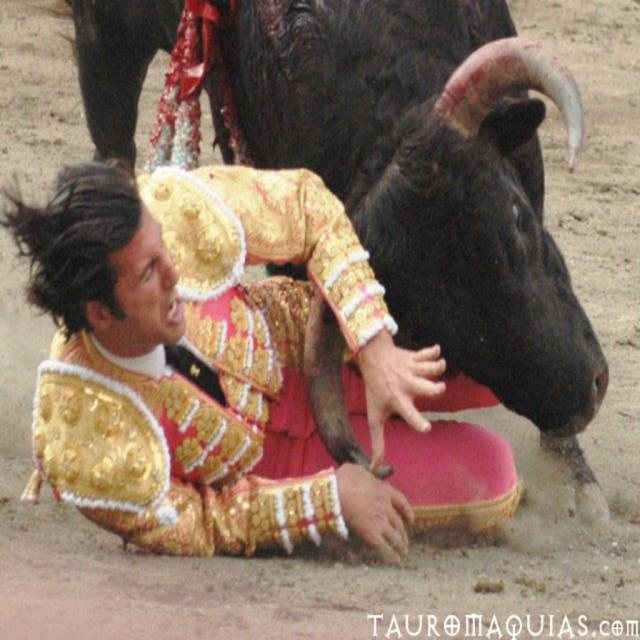Bull: (63, 0, 612, 522)
